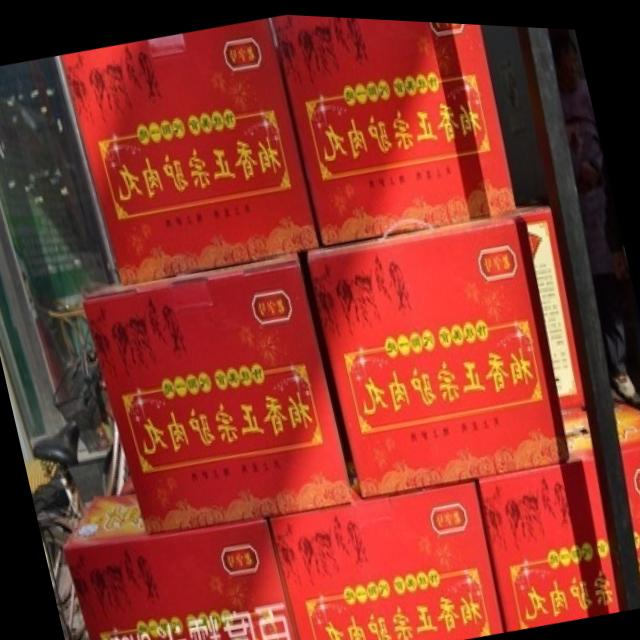box: (83, 249, 353, 533), (304, 207, 569, 494), (59, 18, 320, 282), (270, 12, 516, 241), (268, 474, 504, 640), (64, 490, 297, 640), (477, 397, 618, 624), (515, 199, 585, 404), (613, 387, 640, 567)
